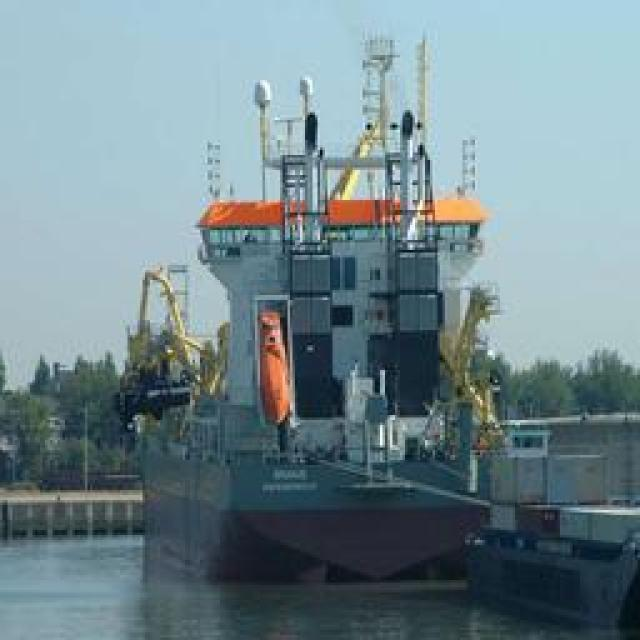CIV_Ship: (130, 36, 498, 579)
